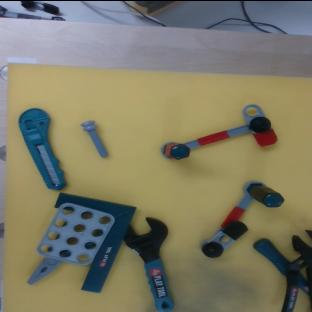non_pass: (188, 171, 286, 262)
pass: (159, 100, 279, 161)
